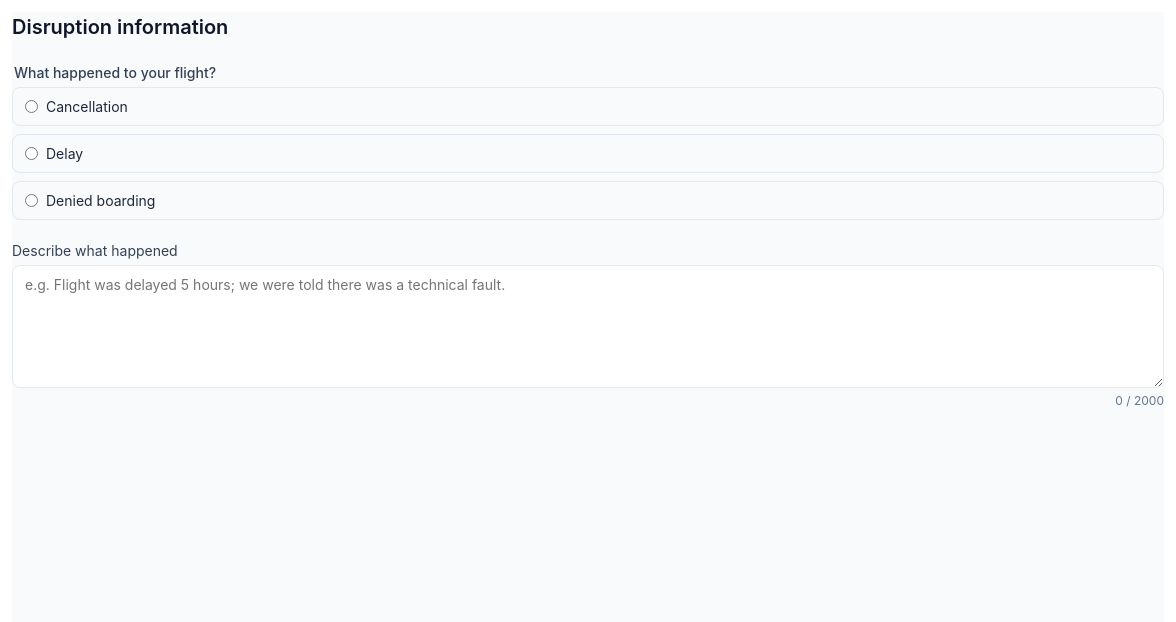
Test case: DisruptionInfoSection › reveals cancellation notice when CANCELLATION is picked
Click the radio button labelled "Cancellation": click(32, 106) [25,100,38,113]
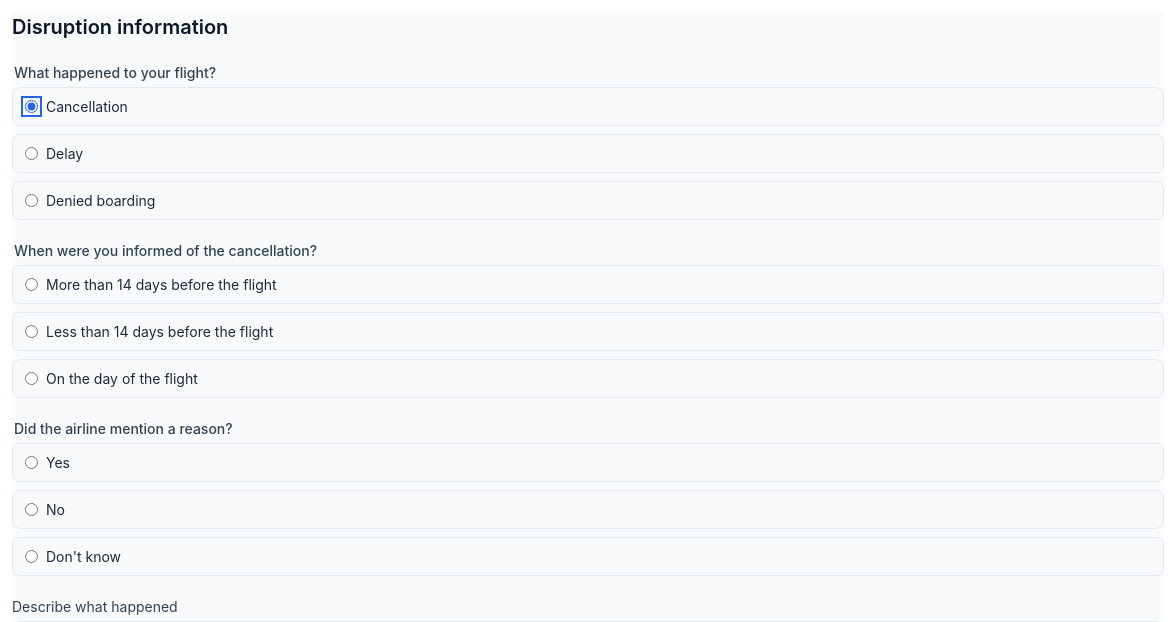
Expected: the text "When were you informed of the cancellation?" is shown, [12,240,319,261]
Expected: the radio button labelled "On the day of the flight" is shown, [25,372,38,385]
